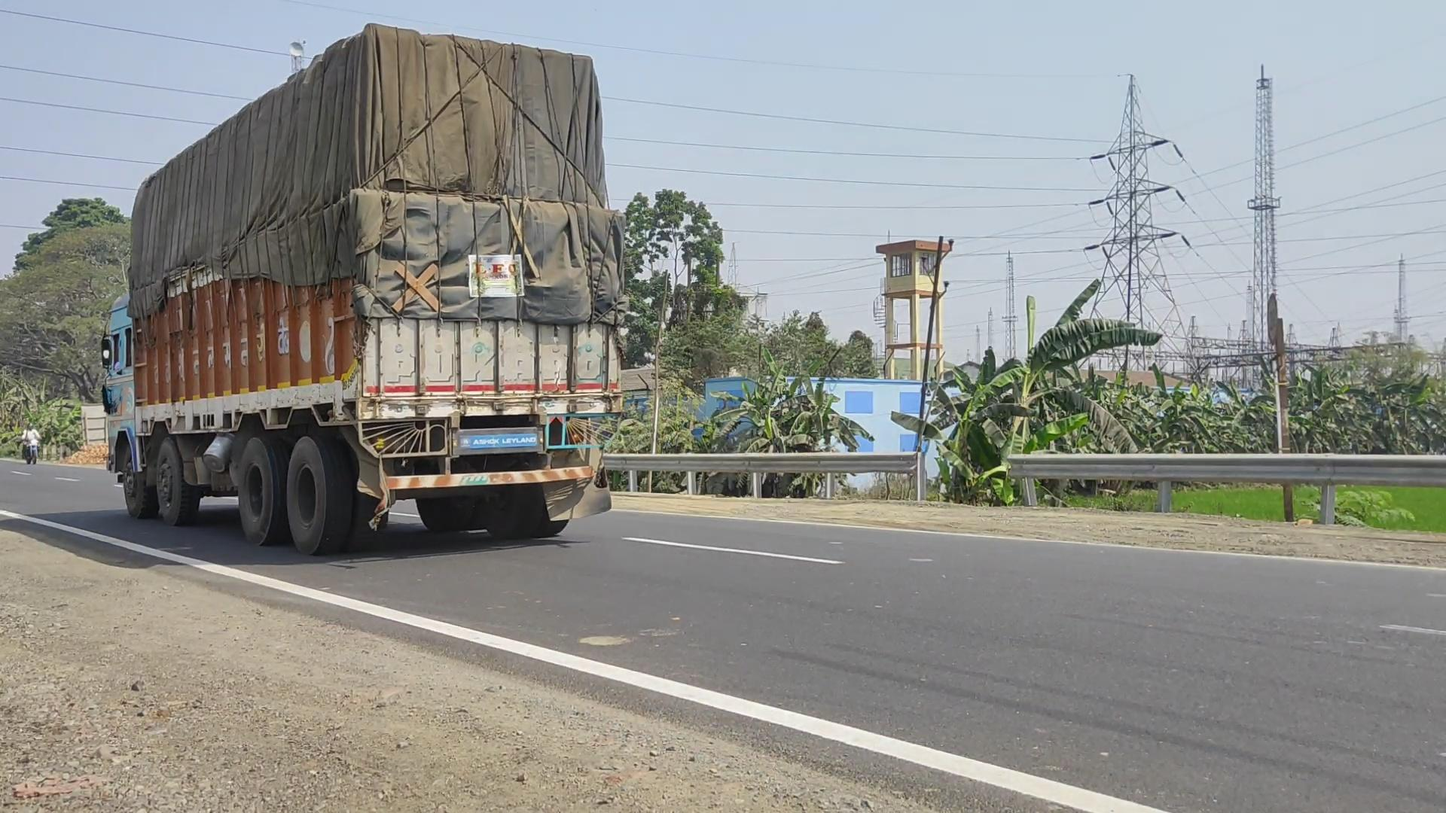bike: (20, 422, 42, 465)
truck: (101, 26, 622, 556)
